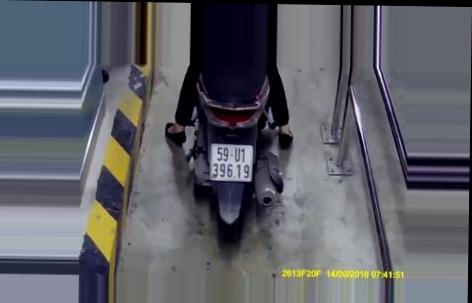License_Plate: (207, 142, 260, 186)
